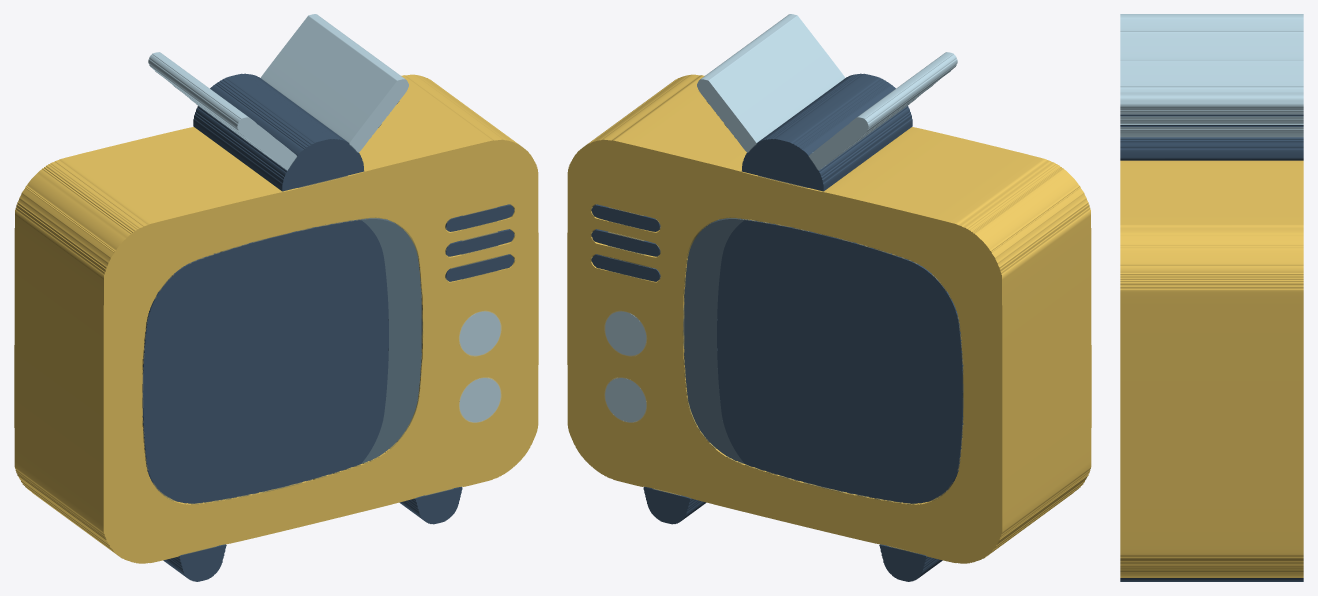
The model's file is OldTv.fbx.
3 views of the same model, side by side, from view 1: azimuth 30°, elevation 25°; view 2: azimuth 150°, elevation 25°; view 3: azimuth 270°, elevation 25° (orthographic). The views are drawn at different scales.
Parts seen in each view (by area): view 1: path1, path0, path3, path2, path7, path4; view 2: path1, path0, path3, path2, path7, path4; view 3: path1, path3, path0.
Part boxes in pixels (x1,y1,x2,y2): path1: (14,74,538,563); path0: (142,73,513,581); path3: (148,14,500,422); path2: (288,143,497,463); path7: (142,207,515,554); path4: (142,175,514,553); path1: (567,74,1091,563); path0: (592,73,963,581); path3: (605,14,957,422); path2: (608,143,817,463); path7: (590,207,963,555); path4: (591,175,963,553); path1: (1120,160,1303,577); path3: (1120,14,1303,137); path0: (1120,114,1303,581).
Size of the model in its own units: 11.28 by 11.22 by 4.
